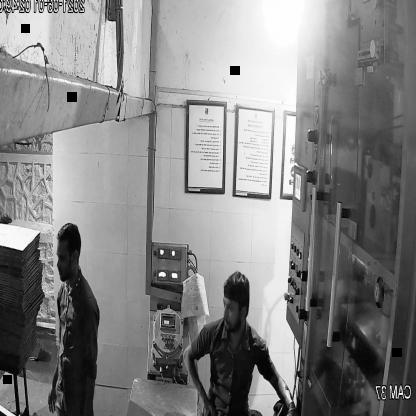no_goggles: (219, 294, 252, 320)
